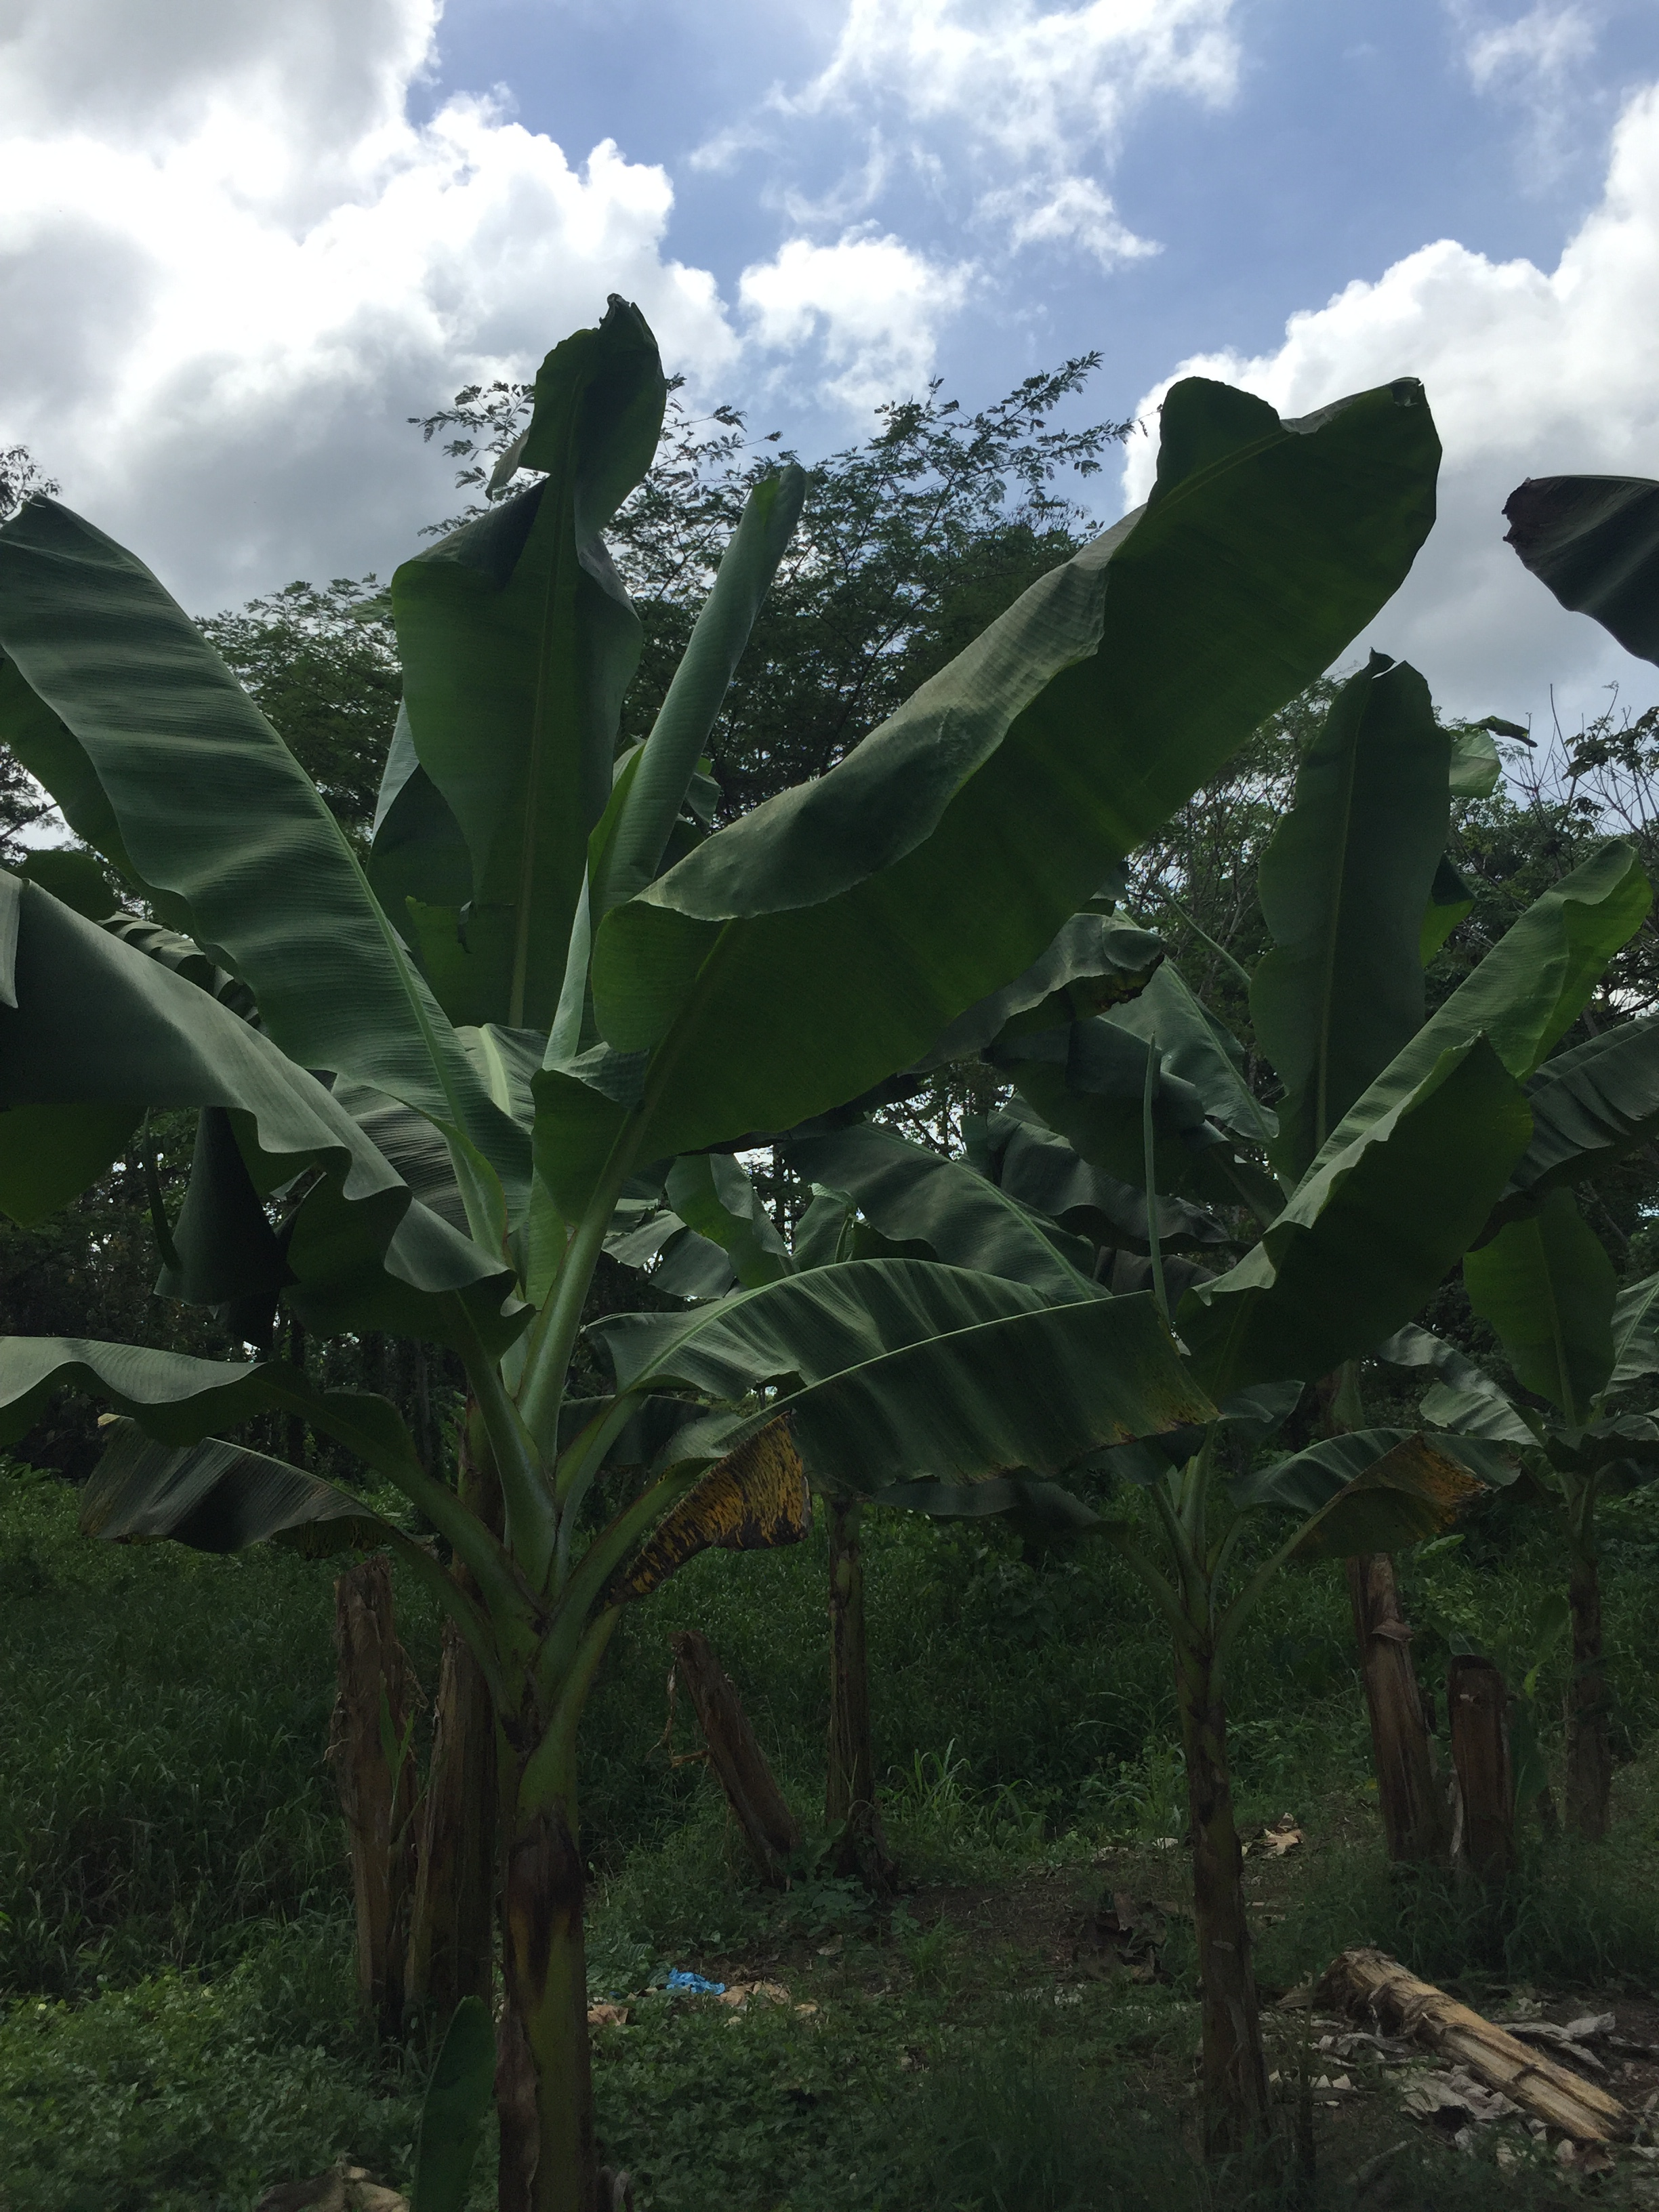candleleafs: (540, 463, 814, 1069), (1155, 880, 1253, 984), (1143, 1029, 1171, 1350)
